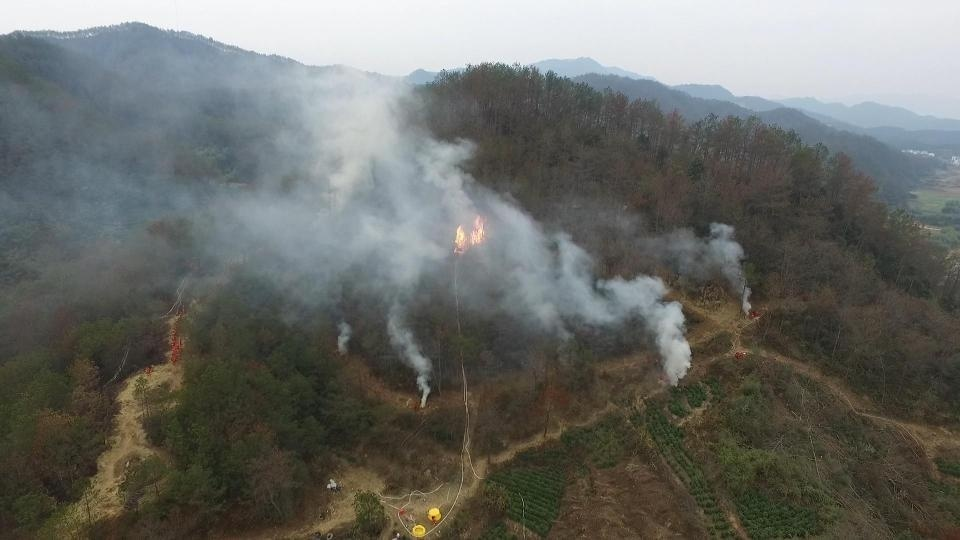fire: (441, 205, 496, 258)
